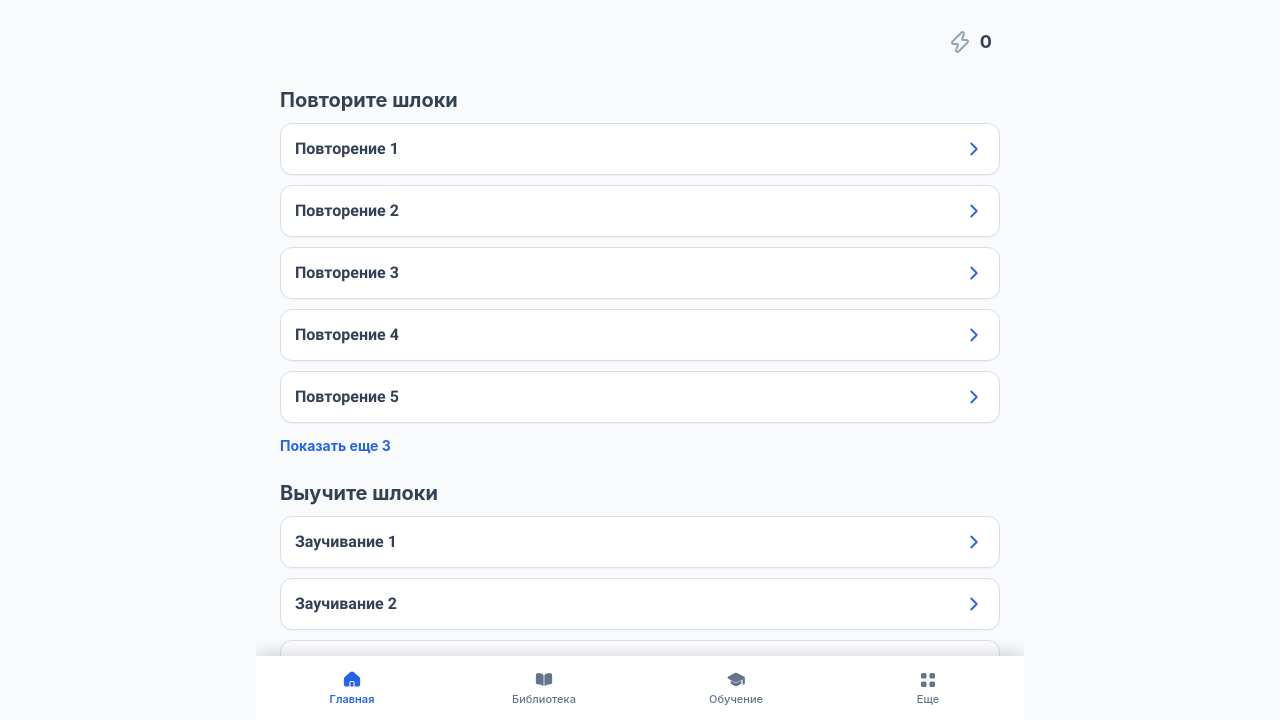
Scenario: dashboard page › requests initial limits and expands both authoritative lists in place
The width and height of the screenshot is (1280, 720).
Check: the heading "Повторите шлоки" is shown, box [280,88,458,112]
Step 1. Click the button "Показать еще 3" → (335, 446), box [280,436,391,456]
(page scrolled)
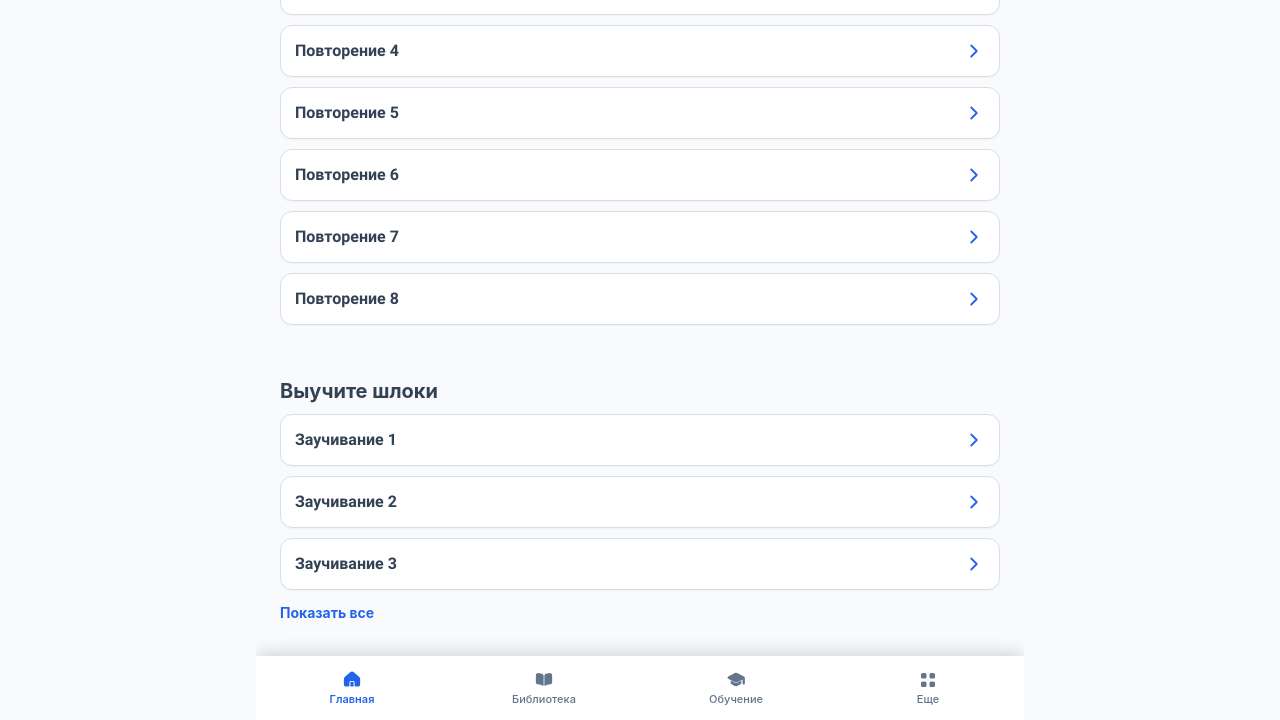
Check: the button "Показать еще" is gone
Step 2. Click the button "Показать все" → (327, 613), box [280,603,374,623]
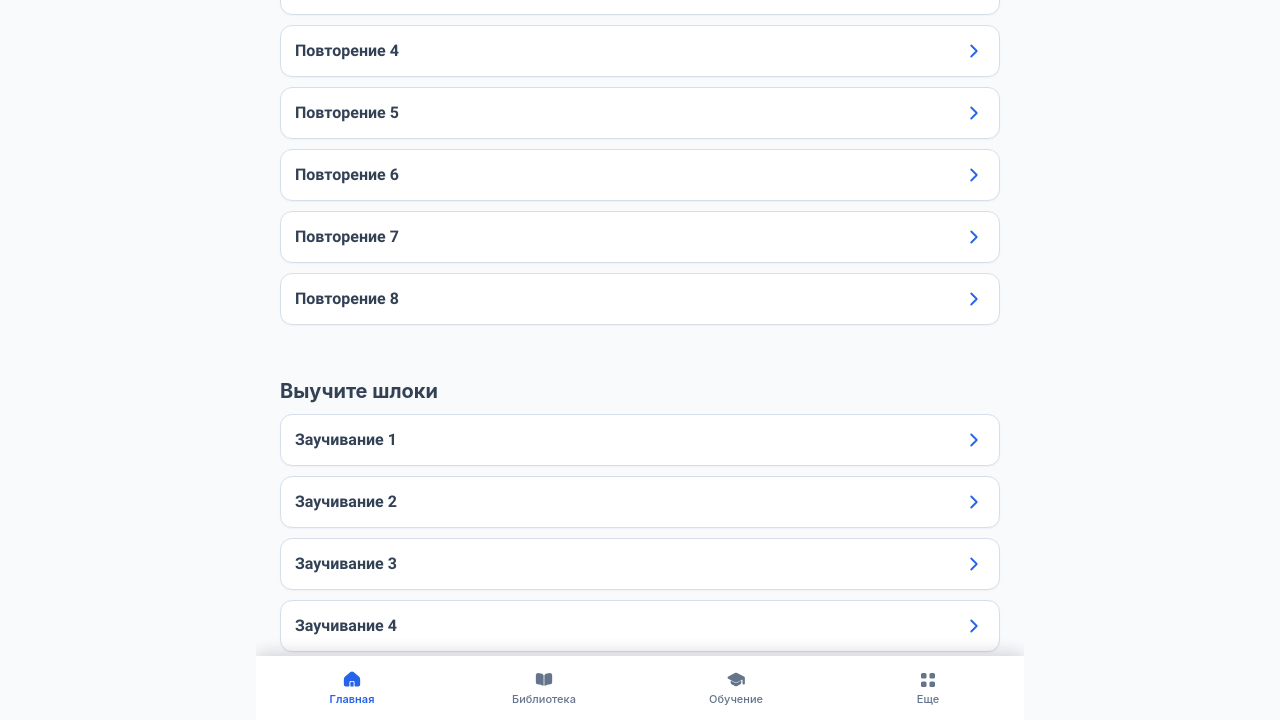
Check: the button "Показать все" is gone
